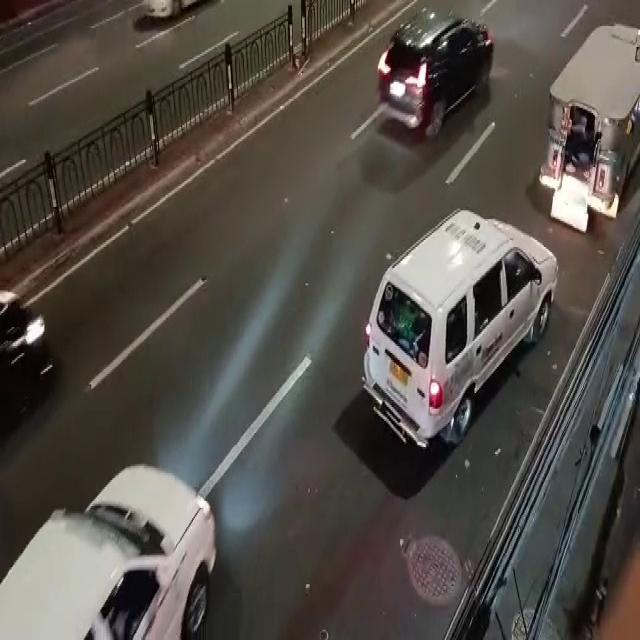car: (359, 213, 561, 470), (0, 453, 254, 640), (372, 4, 504, 162)
jeepney: (535, 11, 640, 236)
